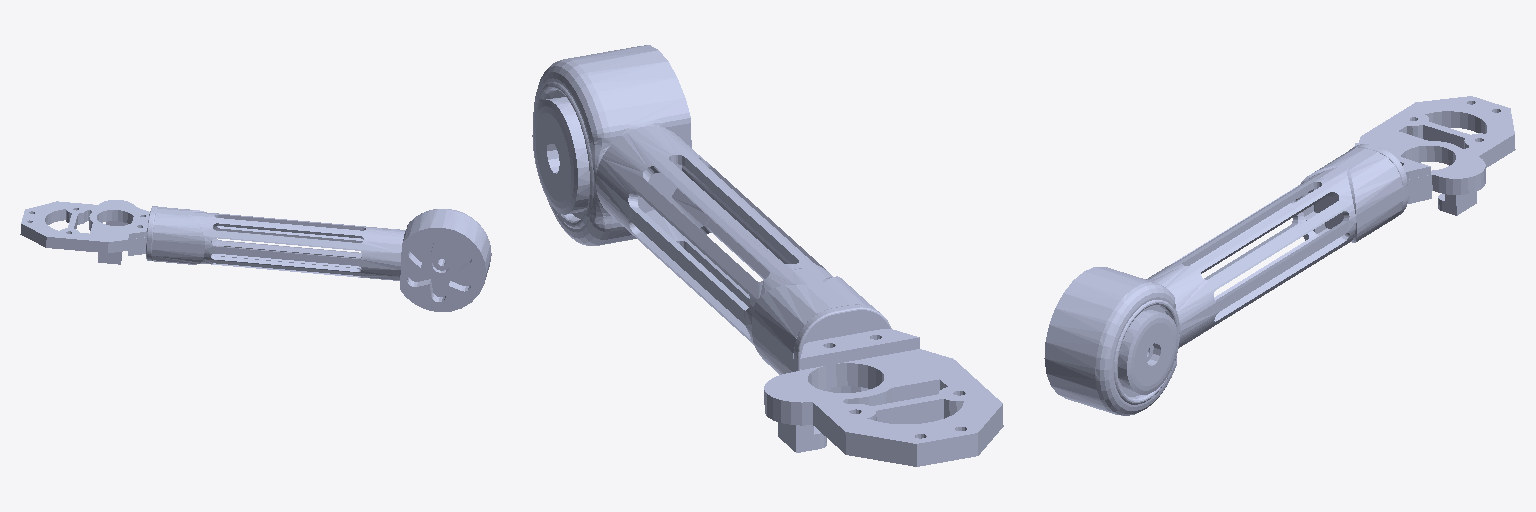
The robot description file, URDF, robot "Robotic_arm_urdf_v2":
<?xml version="1.0" encoding="utf-8"?>
<!-- This URDF was automatically created by SolidWorks to URDF Exporter! Originally created by [author] ([email redacted]) 
     Commit Version: 1.6.0-4-g7f85cfe  Build Version: 1.6.7995.38578
     For more information, please see http://wiki.ros.org/sw_urdf_exporter -->
<robot
  name="Robotic_arm_urdf_v2">
  <link
    name="base_link">
    <inertial>
      <origin
        xyz="-4.16333634234434E-17 -0.000119031173936635 0.0194916688865922"
        rpy="0 0 0" />
      <mass
        value="0.273457775165078" />
      <inertia
        ixx="0.000550599522551074"
        ixy="1.07721856439386E-18"
        ixz="-2.63496805430799E-20"
        iyy="0.00055131605565863"
        iyz="-1.11948478176715E-08"
        izz="0.00100535104215319" />
    </inertial>
    <visual>
      <origin
        xyz="0 0 0"
        rpy="0 0 0" />
      <geometry>
        <mesh
          filename="package://Robotic_arm_urdf_v2/meshes/base_link.STL" />
      </geometry>
      <material
        name="">
        <color
          rgba="0.792156862745098 0.819607843137255 0.933333333333333 1" />
      </material>
    </visual>
    <collision>
      <origin
        xyz="0 0 0"
        rpy="0 0 0" />
      <geometry>
        <mesh
          filename="package://Robotic_arm_urdf_v2/meshes/base_link.STL" />
      </geometry>
    </collision>
  </link>
  <link
    name="bicep_Link">
    <inertial>
      <origin
        xyz="0.0176374765166666 -0.00318913226984843 0.0116731237424099"
        rpy="0 0 0" />
      <mass
        value="0.176834526977706" />
      <inertia
        ixx="0.000230463635914927"
        ixy="5.55330403886902E-05"
        ixz="-0.000102103428615064"
        iyy="0.000294033964405724"
        iyz="5.17092540253718E-05"
        izz="0.0002402271432087" />
    </inertial>
    <visual>
      <origin
        xyz="0 0 0"
        rpy="0 0 0" />
      <geometry>
        <mesh
          filename="package://Robotic_arm_urdf_v2/meshes/bicep_Link.STL" />
      </geometry>
      <material
        name="">
        <color
          rgba="0.792156862745098 0.819607843137255 0.933333333333333 1" />
      </material>
    </visual>
    <collision>
      <origin
        xyz="0 0 0"
        rpy="0 0 0" />
      <geometry>
        <mesh
          filename="package://Robotic_arm_urdf_v2/meshes/bicep_Link.STL" />
      </geometry>
    </collision>
  </link>
  <joint
    name="bicep_joint"
    type="revolute">
    <origin
      xyz="0 0 0.0655"
      rpy="0 0 0" />
    <parent
      link="base_link" />
    <child
      link="bicep_Link" />
    <axis
      xyz="0 0 1" />
    <limit
      lower="0"
      upper="0"
      effort="0"
      velocity="0" />
  </joint>
  <link
    name="arm1_Link">
    <inertial>
      <origin
        xyz="-0.00341203412018024 0.0566396542479189 0.0105493823668887"
        rpy="0 0 0" />
      <mass
        value="0.0713721391109546" />
      <inertia
        ixx="0.000240012845562927"
        ixy="1.35534931443067E-05"
        ixz="-1.2438821323787E-07"
        iyy="1.59429072580896E-05"
        iyz="2.07136362405968E-06"
        izz="0.000249620883951732" />
    </inertial>
    <visual>
      <origin
        xyz="0 0 0"
        rpy="0 0 0" />
      <geometry>
        <mesh
          filename="package://Robotic_arm_urdf_v2/meshes/arm1_Link.STL" />
      </geometry>
      <material
        name="">
        <color
          rgba="0.792156862745098 0.819607843137255 0.933333333333333 1" />
      </material>
    </visual>
    <collision>
      <origin
        xyz="0 0 0"
        rpy="0 0 0" />
      <geometry>
        <mesh
          filename="package://Robotic_arm_urdf_v2/meshes/arm1_Link.STL" />
      </geometry>
    </collision>
  </link>
  <joint
    name="arm1_joint"
    type="revolute">
    <origin
      xyz="0.049445 -0.037317 0.056597"
      rpy="1.5708 0 -0.64651" />
    <parent
      link="bicep_Link" />
    <child
      link="arm1_Link" />
    <axis
      xyz="0 0 -1" />
    <limit
      lower="0"
      upper="0"
      effort="0"
      velocity="0" />
  </joint>
  <link
    name="arm2_Link">
    <inertial>
      <origin
        xyz="-0.0409235242070281 -0.00158726935108539 0.0133417345704065"
        rpy="0 0 0" />
      <mass
        value="0.059726655007088" />
      <inertia
        ixx="9.42658984571275E-06"
        ixy="-4.06038789240042E-06"
        ixz="-1.30204330068377E-06"
        iyy="0.000116516464427784"
        iyz="-4.62994059438571E-08"
        izz="0.000119693202982731" />
    </inertial>
    <visual>
      <origin
        xyz="0 0 0"
        rpy="0 0 0" />
      <geometry>
        <mesh
          filename="package://Robotic_arm_urdf_v2/meshes/arm2_Link.STL" />
      </geometry>
      <material
        name="">
        <color
          rgba="0.792156862745098 0.819607843137255 0.933333333333333 1" />
      </material>
    </visual>
    <collision>
      <origin
        xyz="0 0 0"
        rpy="0 0 0" />
      <geometry>
        <mesh
          filename="package://Robotic_arm_urdf_v2/meshes/arm2_Link.STL" />
      </geometry>
    </collision>
  </link>
  <joint
    name="arm2_joint"
    type="revolute">
    <origin
      xyz="-0.0078188 0.12976 0"
      rpy="-3.1416 0 0" />
    <parent
      link="arm1_Link" />
    <child
      link="arm2_Link" />
    <axis
      xyz="0 0 1" />
    <limit
      lower="0"
      upper="0"
      effort="0"
      velocity="0" />
  </joint>
  <link
    name="gripperSup_Link">
    <inertial>
      <origin
        xyz="-0.0220647801149259 0.018304052270959 -0.000736346445310732"
        rpy="0 0 0" />
      <mass
        value="0.0107802680605055" />
      <inertia
        ixx="2.33827751040075E-06"
        ixy="4.78392566136507E-07"
        ixz="9.93842932748418E-08"
        iyy="2.91870602078892E-06"
        iyz="-1.38100047709E-08"
        izz="5.0755750082705E-06" />
    </inertial>
    <visual>
      <origin
        xyz="0 0 0"
        rpy="0 0 0" />
      <geometry>
        <mesh
          filename="package://Robotic_arm_urdf_v2/meshes/gripperSup_Link.STL" />
      </geometry>
      <material
        name="">
        <color
          rgba="0.792156862745098 0.819607843137255 0.933333333333333 1" />
      </material>
    </visual>
    <collision>
      <origin
        xyz="0 0 0"
        rpy="0 0 0" />
      <geometry>
        <mesh
          filename="package://Robotic_arm_urdf_v2/meshes/gripperSup_Link.STL" />
      </geometry>
    </collision>
  </link>
  <joint
    name="gripperSup_joint"
    type="fixed">
    <origin
      xyz="-0.14338 -0.0056238 0.0125"
      rpy="1.5708 -0.64688 0.039202" />
    <parent
      link="arm2_Link" />
    <child
      link="gripperSup_Link" />
    <axis
      xyz="0 0 0" />
  </joint>
  <link
    name="leftClaw_Link">
    <inertial>
      <origin
        xyz="-0.0204707335139497 0.0177184914656234 0.000408340722861833"
        rpy="0 0 0" />
      <mass
        value="0.00659380087326398" />
      <inertia
        ixx="6.9753614266185E-07"
        ixy="6.09231821646641E-07"
        ixz="-9.05552744418159E-22"
        iyy="9.02471223714428E-07"
        iyz="6.46855239016468E-22"
        izz="1.56044456113669E-06" />
    </inertial>
    <visual>
      <origin
        xyz="0 0 0"
        rpy="0 0 0" />
      <geometry>
        <mesh
          filename="package://Robotic_arm_urdf_v2/meshes/leftClaw_Link.STL" />
      </geometry>
      <material
        name="">
        <color
          rgba="0.792156862745098 0.819607843137255 0.933333333333333 1" />
      </material>
    </visual>
    <collision>
      <origin
        xyz="0 0 0"
        rpy="0 0 0" />
      <geometry>
        <mesh
          filename="package://Robotic_arm_urdf_v2/meshes/leftClaw_Link.STL" />
      </geometry>
    </collision>
  </link>
  <joint
    name="leftClaw_joint"
    type="revolute">
    <origin
      xyz="-0.03814 0.011889 0.003"
      rpy="0 0 0" />
    <parent
      link="gripperSup_Link" />
    <child
      link="leftClaw_Link" />
    <axis
      xyz="0 0 -1" />
    <limit
      lower="0"
      upper="0"
      effort="0"
      velocity="0" />
  </joint>
  <link
    name="rightClaw_Link">
    <inertial>
      <origin
        xyz="-0.0367436624942855 -0.0038266189402424 0.000408340722861888"
        rpy="0 0 0" />
      <mass
        value="0.00659380087326398" />
      <inertia
        ixx="6.9753614266185E-07"
        ixy="6.09231821646641E-07"
        ixz="-9.05552744418159E-22"
        iyy="9.02471223714428E-07"
        iyz="6.46855239016468E-22"
        izz="1.56044456113669E-06" />
    </inertial>
    <visual>
      <origin
        xyz="0 0 0"
        rpy="0 0 0" />
      <geometry>
        <mesh
          filename="package://Robotic_arm_urdf_v2/meshes/rightClaw_Link.STL" />
      </geometry>
      <material
        name="">
        <color
          rgba="0.792156862745098 0.819607843137255 0.933333333333333 1" />
      </material>
    </visual>
    <collision>
      <origin
        xyz="0 0 0"
        rpy="0 0 0" />
      <geometry>
        <mesh
          filename="package://Robotic_arm_urdf_v2/meshes/rightClaw_Link.STL" />
      </geometry>
    </collision>
  </link>
  <joint
    name="rightClaw_joint"
    type="revolute">
    <origin
      xyz="-0.021867 0.033434 0.003"
      rpy="0 0 0" />
    <parent
      link="gripperSup_Link" />
    <child
      link="rightClaw_Link" />
    <axis
      xyz="0 0 -1" />
    <limit
      lower="0"
      upper="0"
      effort="0"
      velocity="0" />
  </joint>
</robot>

--- Render facts (derived) ---
The picture shows the robot from 3 angles, left to right: view 1: azimuth 30°, elevation 25°; view 2: azimuth 150°, elevation 25°; view 3: azimuth 270°, elevation 25°; orthographic projection.
Robot: Robotic_arm_urdf_v2 — 7 links, 6 joints (5 revolute, 1 fixed); root link base_link; default pose: all joints at 0.
Visible links, largest first — view 1: arm2_Link, gripperSup_Link; view 2: arm2_Link, gripperSup_Link; view 3: arm2_Link, gripperSup_Link.
Link boxes in pixels (<box>): arm2_Link: <box>128,206,491,311</box>; gripperSup_Link: <box>20,200,146,264</box>; arm2_Link: <box>532,45,919,392</box>; gripperSup_Link: <box>764,349,1003,466</box>; arm2_Link: <box>1044,143,1431,415</box>; gripperSup_Link: <box>1359,96,1515,215</box>.
Bounding box of the posed robot: 0.1928 × 0.1553 × 0.0455 m (x, y, z).
Meshes: 7 distinct files referenced, 2 mesh visuals loaded (2 binary STL); not drawn: 5 (reference not matched to a file when rendering).